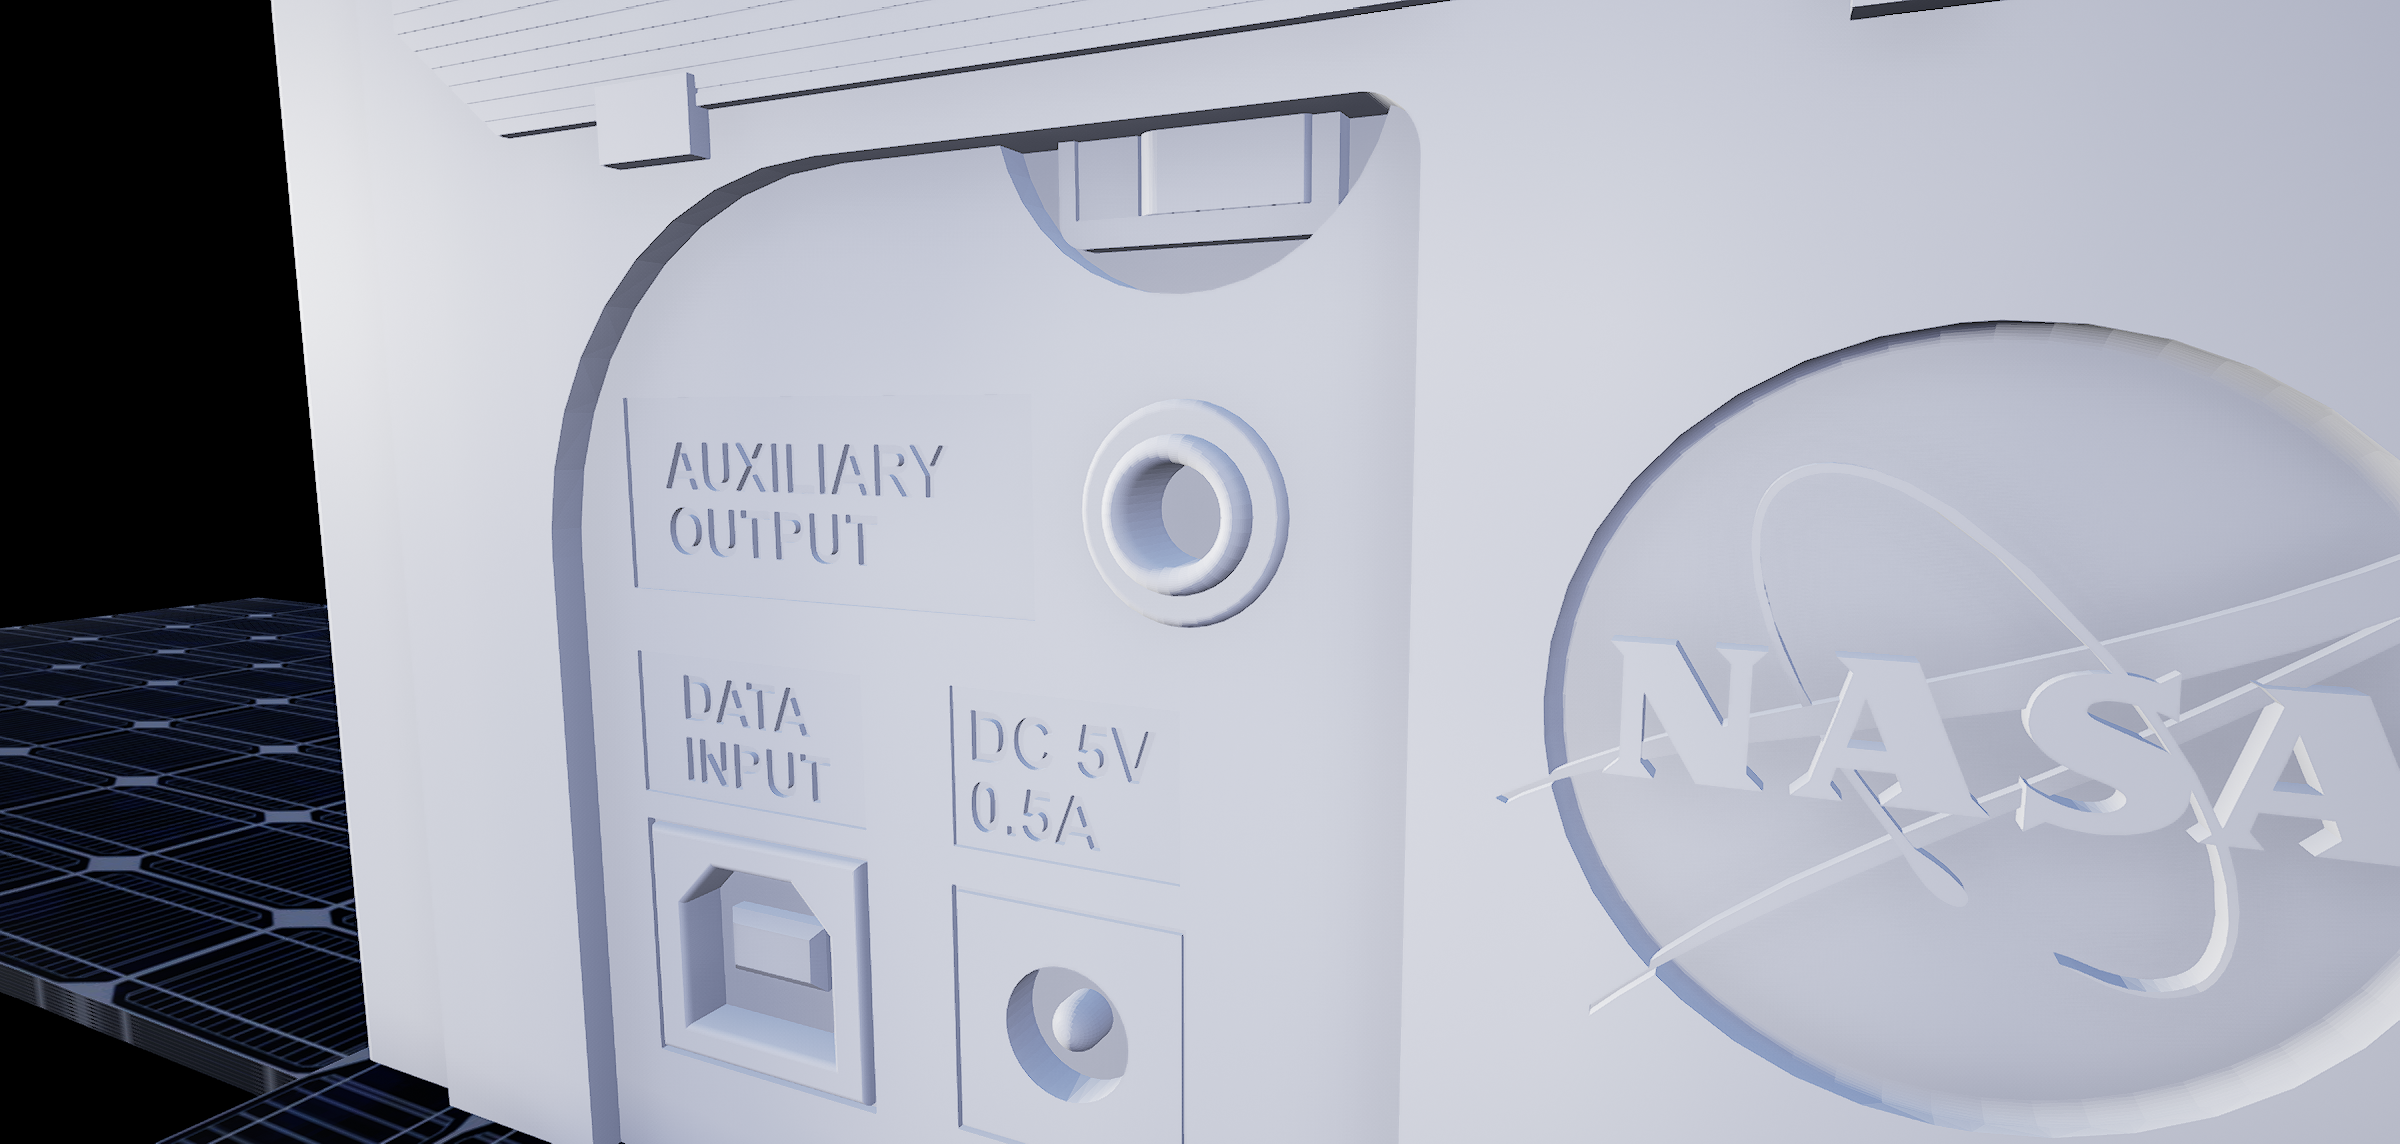aux: (1068, 387, 1306, 652)
dc: (998, 942, 1140, 1129)
usb: (672, 845, 853, 1083)
